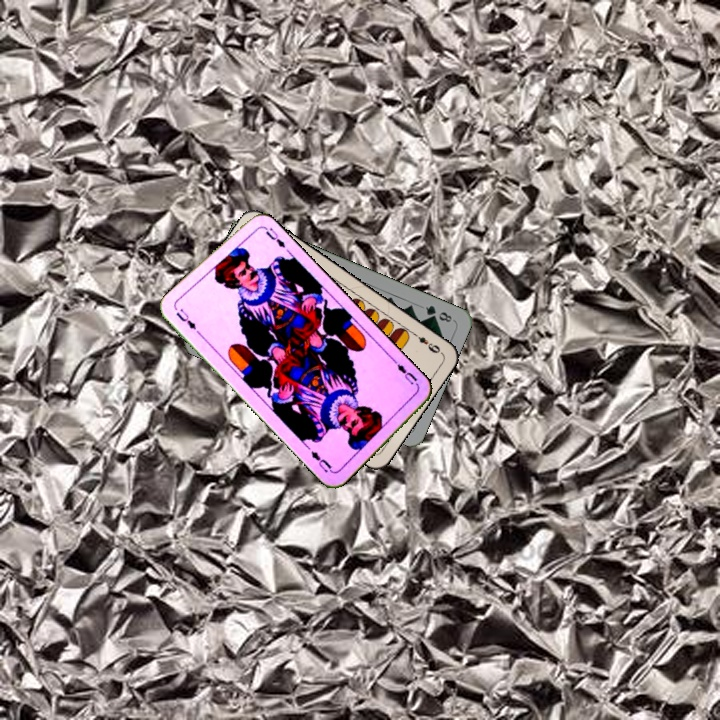E9: (408, 328, 443, 356)
EU: (390, 357, 422, 390), (172, 305, 199, 332)
G8: (421, 301, 455, 325)
